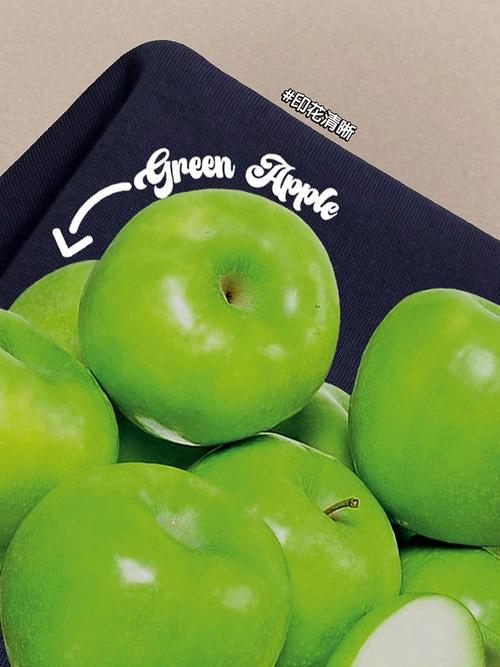unripe: (63, 184, 345, 456), (0, 453, 294, 667), (174, 424, 413, 667), (349, 271, 500, 550), (0, 296, 121, 553)
